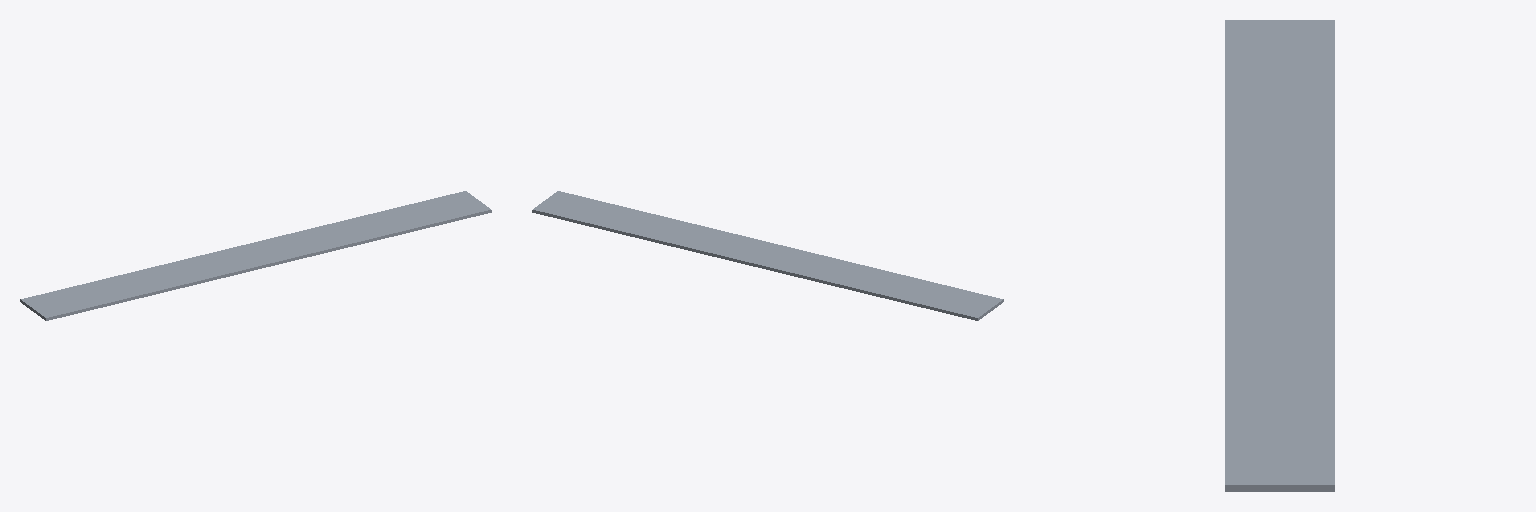
robot.urdf — env_1:
<?xml version="1.0" encoding="utf-8"?>
<robot name="env_1">
  <link name="base_link">
    <inertial>
      <origin xyz="1.0 0.1 -0.0065" rpy="0 0 0" />
      <mass value="1.0" />
      <inertia ixx="0.0033474167" ixy="0" ixz="0" iyy="0.3333474167" iyz="0" izz="0.3366666667" />
    </inertial>
    <visual>
      <origin xyz="1.0 0.1 -0.0065" rpy="0 0 0" />
      <geometry>
        <box size="2.0 0.2 0.013" />
      </geometry>
      <material name="ledge_gray">
        <color rgba="0.65 0.68 0.72 1" />
      </material>
    </visual>
    <collision>
      <origin xyz="1.0 0.1 -0.0065" rpy="0 0 0" />
      <geometry>
        <box size="2.0 0.2 0.013" />
      </geometry>
    </collision>
  </link>
</robot>

--- Render facts (derived) ---
The picture shows the robot from 3 angles, left to right: view 1: azimuth 30°, elevation 25°; view 2: azimuth 150°, elevation 25°; view 3: azimuth 270°, elevation 25°; orthographic projection.
Model env_1 with 1 links and 0 joints (none), rooted at base_link, posed every joint at zero.
Visible links, largest first — view 1: base_link; view 2: base_link; view 3: base_link.
Boxes of the visible links, bbox=[...] form: base_link: bbox=[20, 191, 491, 320]; base_link: bbox=[532, 191, 1003, 320]; base_link: bbox=[1225, 20, 1334, 491].
Size in the robot's own frame: 2 by 0.2 by 0.013 metres.
Geometry: primitives only (box / cylinder / sphere), no mesh files.
